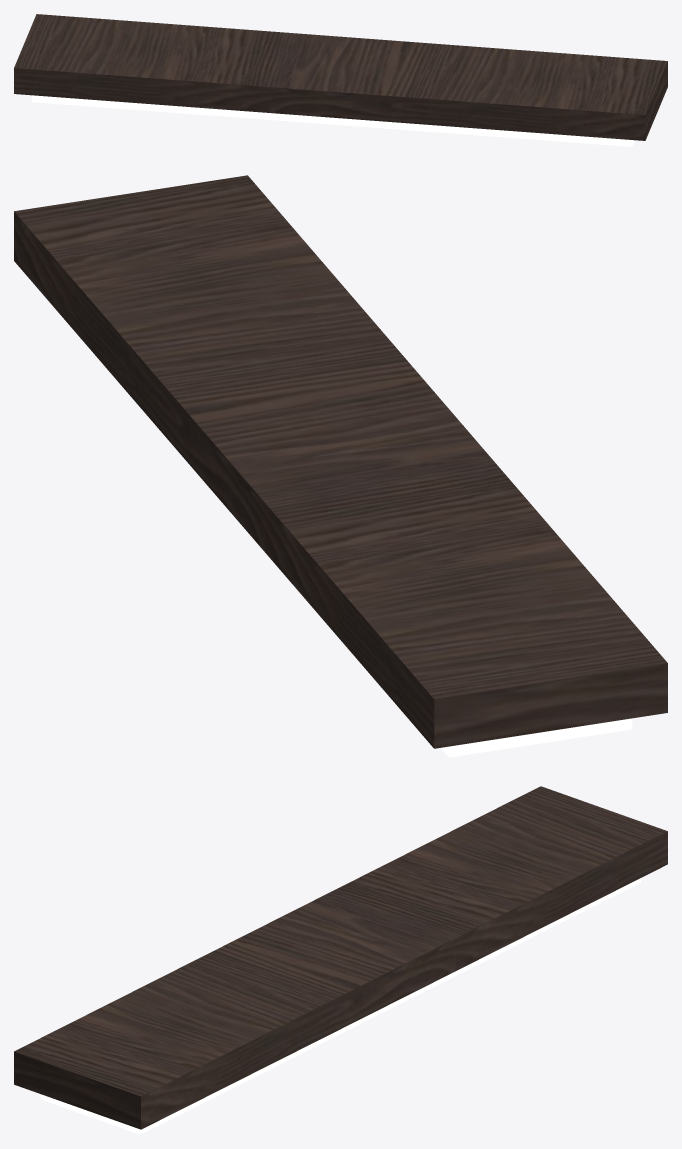
3 renders of one model, top to bottom at view 1: azimuth 30°, elevation 25°; view 2: azimuth 150°, elevation 25°; view 3: azimuth 270°, elevation 25°, orthographic. The views are drawn at different scales.
Visible parts, largest first — view 1: Lamps_06006_Metal_04004_0, Lamps_06006_Emissor001_0; view 2: Lamps_06006_Metal_04004_0, Lamps_06006_Emissor001_0; view 3: Lamps_06006_Metal_04004_0, Lamps_06006_Emissor001_0.
Part boxes in pixels (<box>): Lamps_06006_Metal_04004_0: <box>14,14,667,140</box>; Lamps_06006_Emissor001_0: <box>32,95,634,146</box>; Lamps_06006_Metal_04004_0: <box>14,175,667,748</box>; Lamps_06006_Emissor001_0: <box>441,718,632,757</box>; Lamps_06006_Metal_04004_0: <box>14,786,667,1129</box>; Lamps_06006_Emissor001_0: <box>40,878,641,1134</box>.
Bounding box in the file's own units: 1.11 × 0.0827 × 0.9872.
2 materials, 1 textured.
